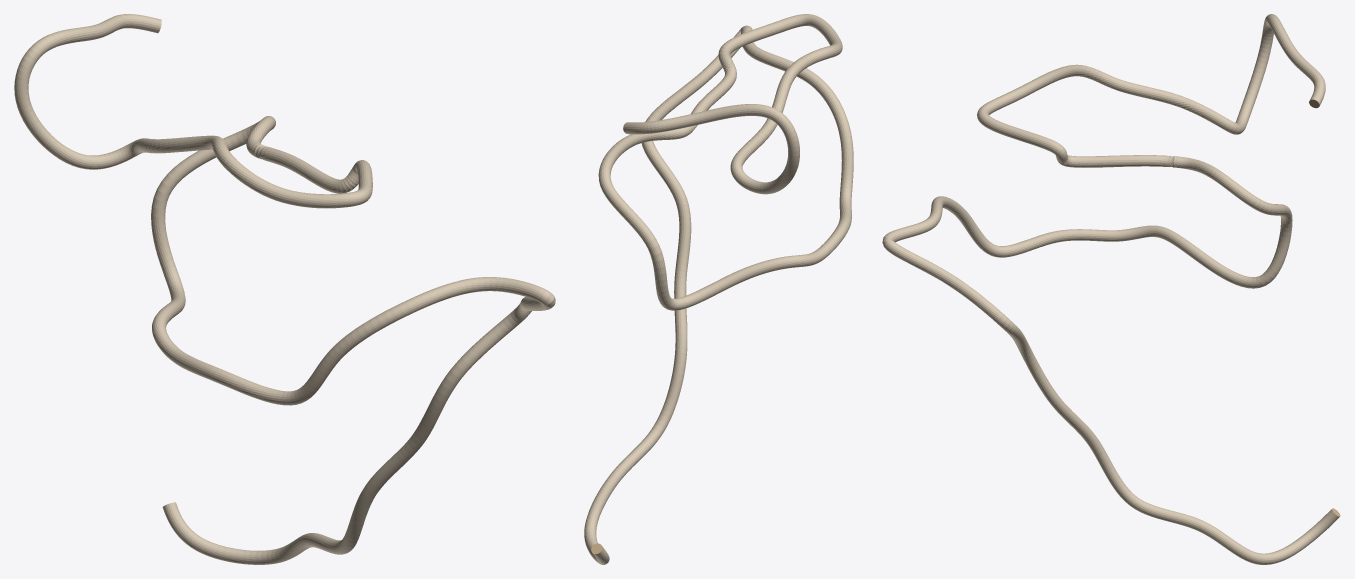
The model's file is fCoilfCoilSheet.dae.
3 views of the same model, side by side, from view 1: azimuth 30°, elevation 25°; view 2: azimuth 150°, elevation 25°; view 3: azimuth 270°, elevation 25° (orthographic). The views are drawn at different scales.
Visible parts, largest first — view 1: Shape_IndexedTriangleStripSet_034; view 2: Shape_IndexedTriangleStripSet_034; view 3: Shape_IndexedTriangleStripSet_034.
Part boxes in pixels (box(x1,y1,x2,y2)): Shape_IndexedTriangleStripSet_034: box(14, 14, 555, 564); Shape_IndexedTriangleStripSet_034: box(584, 14, 853, 564); Shape_IndexedTriangleStripSet_034: box(882, 14, 1340, 564).
Bounding box in the file's own units: 14.14 × 19.88 × 22.35.
